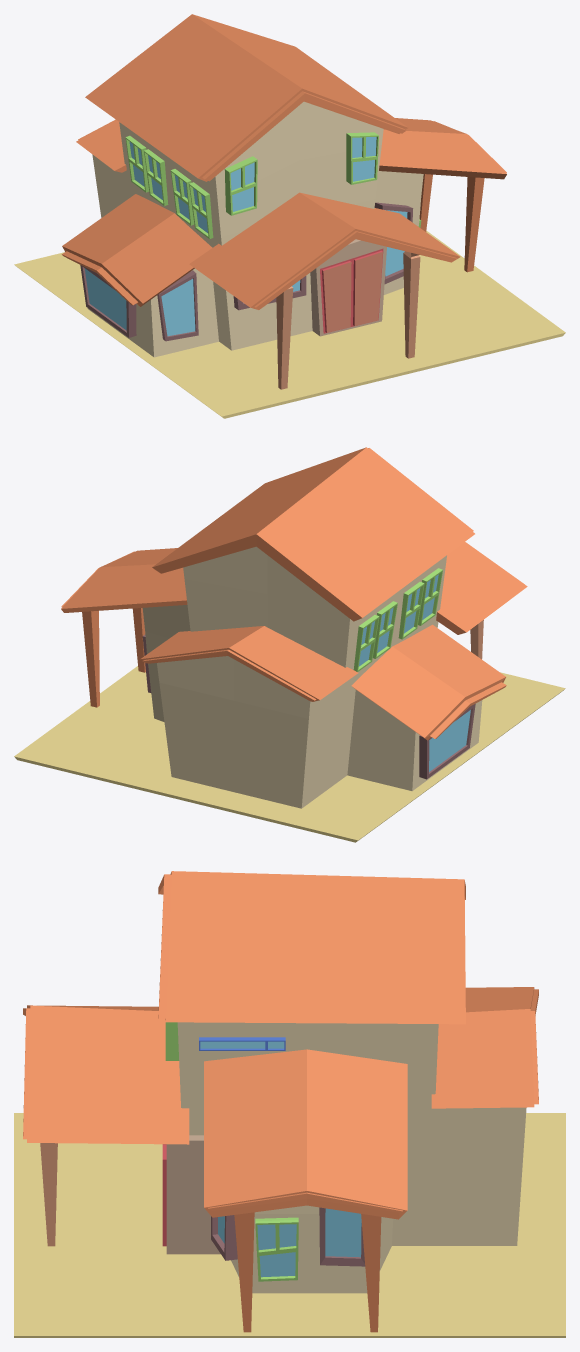
Rendered from bilun - houses.fbx.
3 renders of one model, top to bottom at view 1: azimuth 30°, elevation 25°; view 2: azimuth 150°, elevation 25°; view 3: azimuth 270°, elevation 25°, orthographic. The views are drawn at different scales.
Visible parts, largest first — view 1: Cube, Cube.007, Cube.001, Cube.004, Cube.008, Cube.015, Cube.006, Cube.003, Cube.013, Cube.023, Cube.002, Cube.005 (+8 smaller); view 2: Cube.001, Cube.007, Cube, Cube.008, Cube.009, Cube.003, Cube.006, Cube.004, Cube.002, Cube.023, Cube.005, Cube.020 (+3 smaller); view 3: Cube, Cube.007, Cube.006, Cube.001, Cube.004, Cube.009, Cube.015, Cube.002, Cube.005, Cube.016, Cube.017, Cube.018 (+1 smaller).
Boxes of the visible parts, bbox=[...] form: Cube: bbox=[14, 230, 565, 418]; Cube.007: bbox=[85, 14, 407, 181]; Cube.001: bbox=[92, 101, 383, 350]; Cube.004: bbox=[189, 192, 460, 389]; Cube.008: bbox=[62, 194, 212, 306]; Cube.015: bbox=[310, 239, 386, 336]; Cube.006: bbox=[379, 118, 506, 179]; Cube.003: bbox=[87, 268, 218, 357]; Cube.013: bbox=[157, 270, 198, 341]; Cube.023: bbox=[80, 265, 136, 337]; Cube.002: bbox=[375, 171, 423, 294]; Cube.005: bbox=[419, 174, 484, 272]; Cube.001: bbox=[157, 546, 446, 808]; Cube.007: bbox=[152, 447, 474, 621]; Cube: bbox=[14, 666, 565, 842]; Cube.008: bbox=[351, 624, 506, 740]; Cube.009: bbox=[140, 626, 358, 701]; Cube.003: bbox=[347, 690, 482, 790]; Cube.006: bbox=[61, 548, 187, 612]; Cube.004: bbox=[436, 542, 527, 659]; Cube.002: bbox=[142, 605, 190, 721]; Cube.023: bbox=[419, 703, 475, 779]; Cube.005: bbox=[82, 608, 145, 707]; Cube.020: bbox=[398, 581, 424, 639]; Cube: bbox=[14, 1113, 565, 1337]; Cube.007: bbox=[158, 871, 465, 1024]; Cube.006: bbox=[204, 1049, 407, 1219]; Cube.001: bbox=[177, 1022, 526, 1245]; Cube.004: bbox=[23, 1005, 189, 1246]; Cube.009: bbox=[431, 987, 538, 1108]; Cube.015: bbox=[162, 1135, 220, 1254]; Cube.002: bbox=[231, 1205, 393, 1293]; Cube.005: bbox=[234, 1212, 381, 1332]; Cube.016: bbox=[255, 1217, 298, 1281]; Cube.017: bbox=[319, 1207, 365, 1266]; Cube.018: bbox=[199, 1037, 285, 1050].
Size of the model in its own units: 1020 by 661 by 983.
